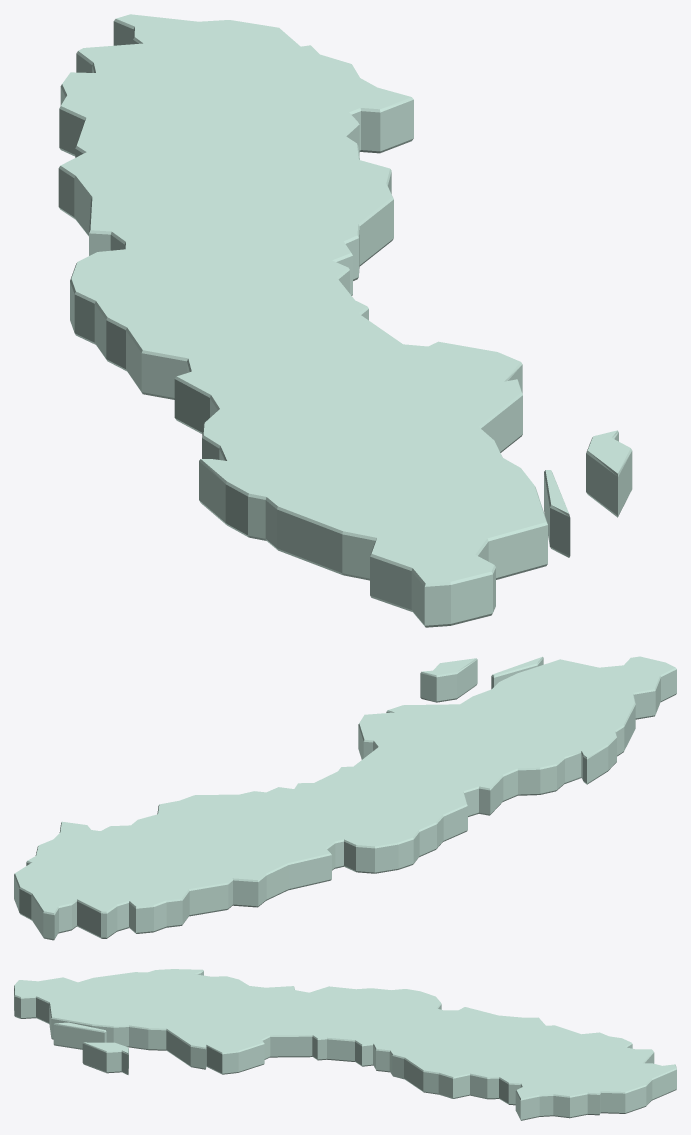
Rendered from SWE.glb.
3 renders of one model, top to bottom at view 1: azimuth 30°, elevation 25°; view 2: azimuth 150°, elevation 25°; view 3: azimuth 270°, elevation 25°, orthographic. The views are drawn at different scales.
Bounding box in the file's own units: 0.8637 × 0.068 × 1.85.
